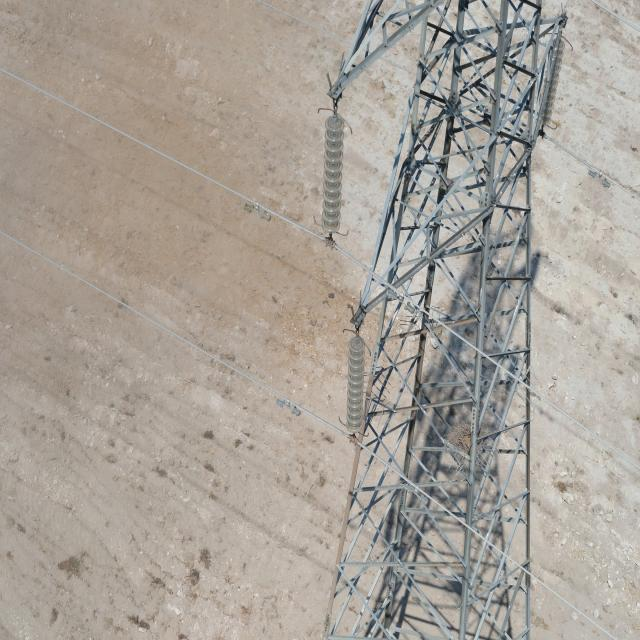direk: (328, 0, 538, 640)
